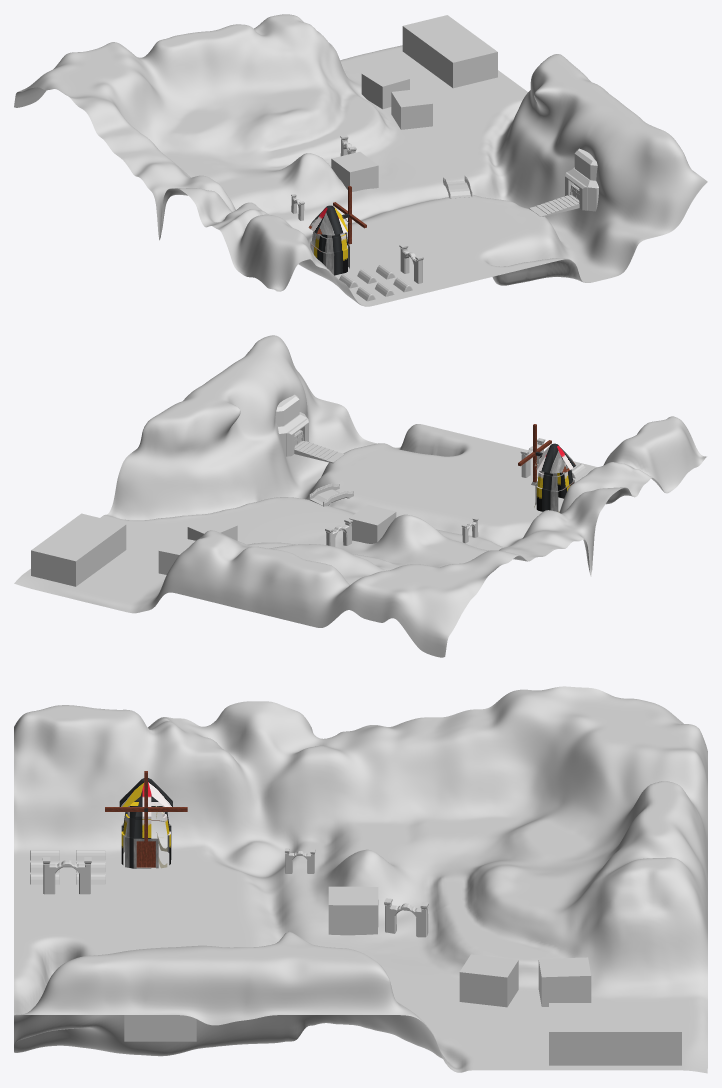
The model's file is InitiaTown_5.fbx.
The picture shows the model from 3 angles, top to bottom: view 1: azimuth 30°, elevation 25°; view 2: azimuth 150°, elevation 25°; view 3: azimuth 270°, elevation 25°; orthographic projection. The views are drawn at different scales.
Parts seen in each view (by area): view 1: Terrain_HeightMap_applied._v2, Train Station, Shop PO Cafe, Windmill, Farming Mounds, Lab Entrance, Mountain Lab Bridge, Farm Arch, Lab Glass; view 2: Terrain_HeightMap_applied._v2, Train Station, Shop PO Cafe, Windmill, Lab Entrance, Mountain Lab Bridge, Bridge, Lab Glass; view 3: Terrain_HeightMap_applied._v2, Train Station, Shop PO Cafe, Windmill, Lab Entrance, Farming Mounds, Farm Arch, Housing Area Arch.
Boxes of the visible parts, x1=… form: Terrain_HeightMap_applied._v2: x1=14, y1=14, x2=707, y2=306; Train Station: x1=402, y1=15, x2=497, y2=88; Shop PO Cafe: x1=331, y1=66, x2=432, y2=191; Windmill: x1=308, y1=186, x2=366, y2=275; Farming Mounds: x1=339, y1=264, x2=412, y2=301; Lab Entrance: x1=565, y1=166, x2=598, y2=211; Mountain Lab Bridge: x1=529, y1=195, x2=579, y2=216; Farm Arch: x1=399, y1=244, x2=423, y2=283; Lab Glass: x1=574, y1=148, x2=597, y2=187; Terrain_HeightMap_applied._v2: x1=14, y1=335, x2=706, y2=657; Train Station: x1=31, y1=513, x2=126, y2=586; Shop PO Cafe: x1=158, y1=504, x2=396, y2=574; Windmill: x1=518, y1=424, x2=575, y2=512; Lab Entrance: x1=278, y1=412, x2=308, y2=456; Mountain Lab Bridge: x1=294, y1=441, x2=344, y2=463; Bridge: x1=309, y1=483, x2=353, y2=506; Lab Glass: x1=275, y1=394, x2=299, y2=433; Terrain_HeightMap_applied._v2: x1=14, y1=686, x2=707, y2=1073; Train Station: x1=549, y1=1003, x2=681, y2=1065; Shop PO Cafe: x1=328, y1=886, x2=591, y2=1007; Windmill: x1=105, y1=771, x2=187, y2=868; Lab Entrance: x1=124, y1=1015, x2=196, y2=1041; Farming Mounds: x1=30, y1=850, x2=105, y2=884; Farm Arch: x1=42, y1=857, x2=91, y2=894; Housing Area Arch: x1=384, y1=898, x2=428, y2=937.
Bounding box in the file's own units: 55.99 × 59.1 × 13.72.
